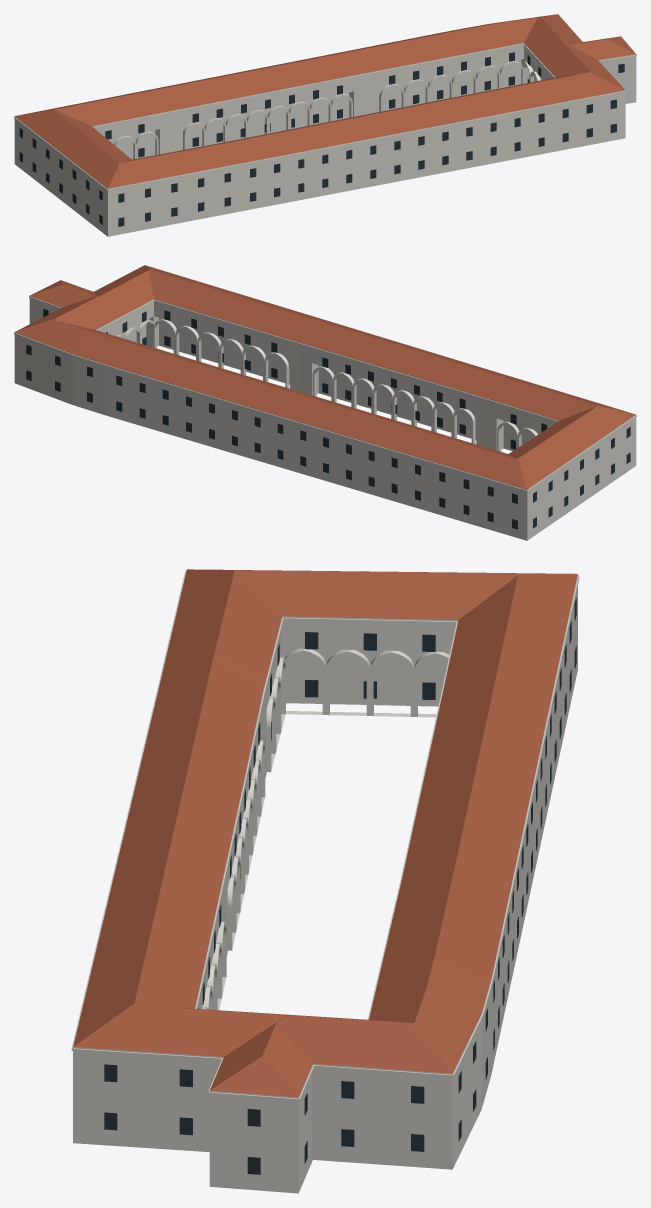
File: camposanto.glb
3 views of the same model, one above another, from view 1: azimuth 30°, elevation 25°; view 2: azimuth 150°, elevation 25°; view 3: azimuth 270°, elevation 25° (orthographic). The views are drawn at different scales.
Parts seen in each view (by area): view 1: primary-envelope, primary-roof, window-rhythm, open-loggia, cornice; view 2: primary-envelope, primary-roof, window-rhythm, open-loggia, cornice; view 3: primary-roof, primary-envelope, open-loggia, window-rhythm, cornice.
Part boxes in pixels (bbox=[...]): primary-envelope: bbox=[14, 43, 636, 236]; primary-roof: bbox=[15, 14, 635, 188]; window-rhythm: bbox=[19, 52, 624, 226]; open-loggia: bbox=[114, 61, 540, 159]; cornice: bbox=[14, 15, 636, 190]; primary-envelope: bbox=[14, 296, 636, 540]; primary-roof: bbox=[15, 265, 635, 489]; window-rhythm: bbox=[26, 308, 630, 529]; open-loggia: bbox=[116, 319, 537, 451]; cornice: bbox=[14, 296, 636, 491]; primary-roof: bbox=[73, 569, 577, 1097]; primary-envelope: bbox=[73, 574, 577, 1193]; open-loggia: bbox=[202, 648, 449, 1010]; window-rhythm: bbox=[104, 598, 576, 1174]; cornice: bbox=[71, 570, 579, 1101].
Size of the model in its own units: 16 by 1.69 by 6.49.
